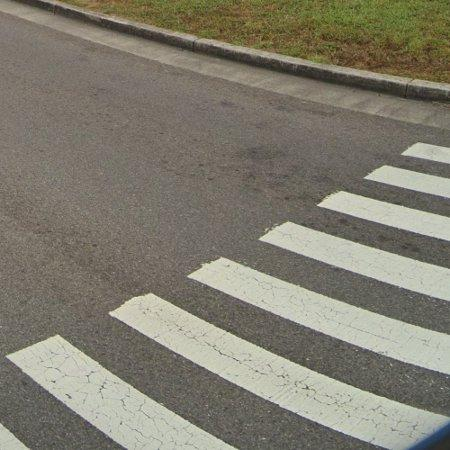crosswalks: (0, 138, 450, 450)
